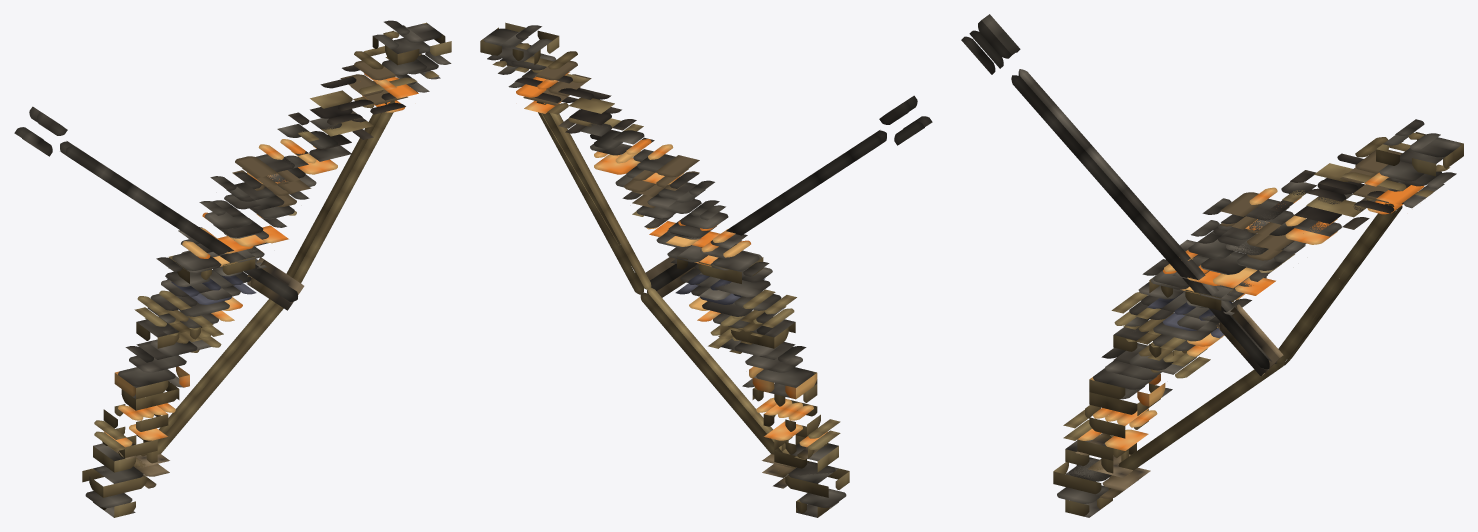
Rendered from long_drop_pulling_0.obj.
The picture shows the model from 3 angles, left to right: view 1: azimuth 30°, elevation 25°; view 2: azimuth 150°, elevation 25°; view 3: azimuth 330°, elevation 25°; orthographic projection. The views are drawn at different scales.
Visible parts, largest first — view 1: lit, fire; view 2: lit, fire; view 3: lit, fire.
Boxes of the visible parts, bbox=[...] form: lit: bbox=[14, 20, 451, 517]; fire: bbox=[246, 25, 438, 310]; lit: bbox=[480, 22, 932, 517]; fire: bbox=[494, 30, 695, 297]; lit: bbox=[961, 14, 1463, 517]; fire: bbox=[1216, 133, 1445, 376].
Bounding box in the file's own units: 1.24 × 1.18 × 0.1375.
